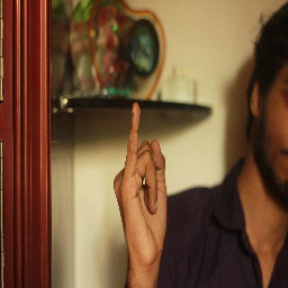I: (111, 101, 174, 250)
